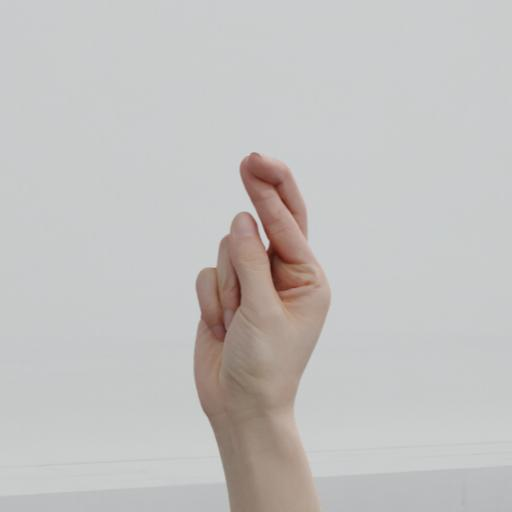R: (156, 136, 348, 414)
